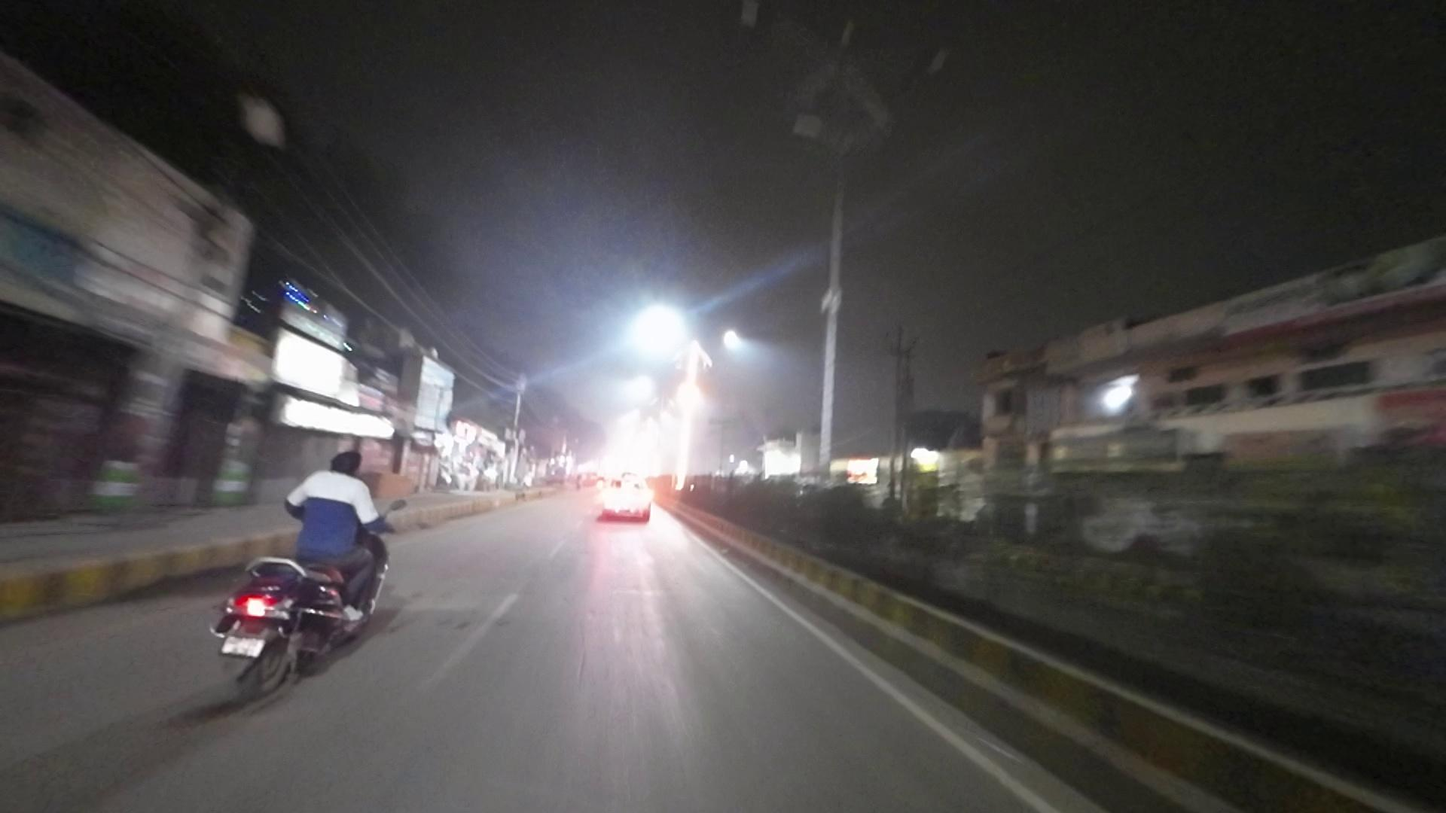streetlight: (738, 3, 832, 53), (859, 43, 953, 80)
